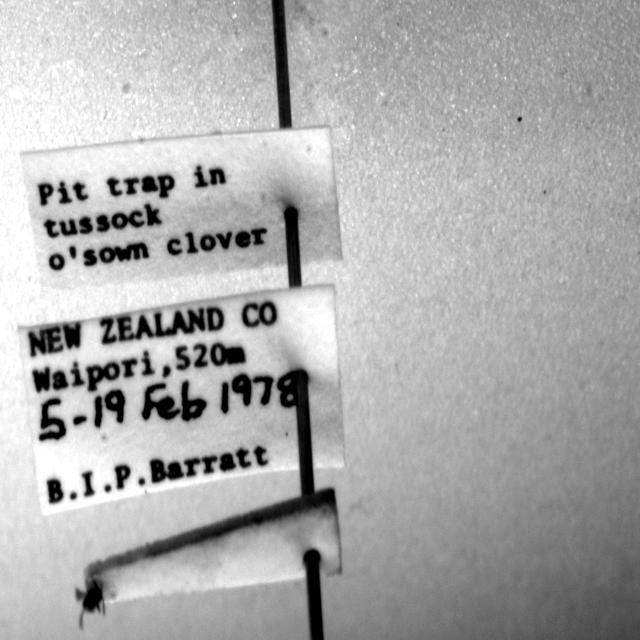mixed_label: (20, 285, 344, 514)
typed_label: (21, 128, 341, 287)
